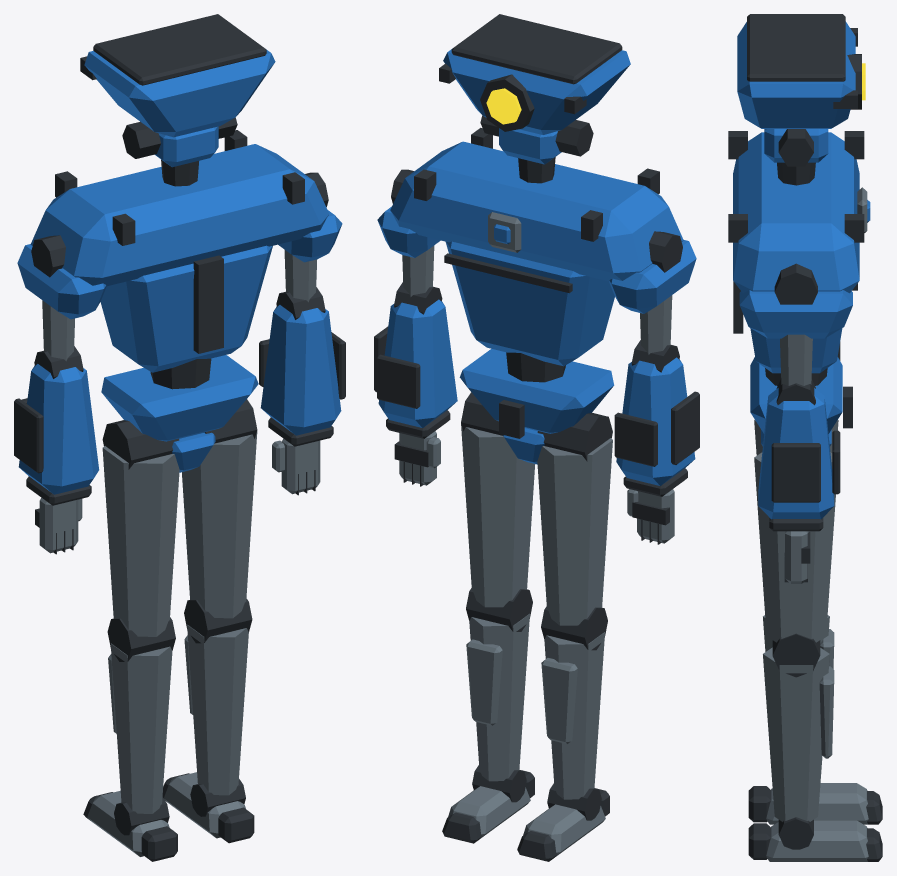
File: Robot_Blue.fbx
3 renders of one model, left to right at view 1: azimuth 30°, elevation 25°; view 2: azimuth 150°, elevation 25°; view 3: azimuth 270°, elevation 25°, orthographic. The views are drawn at different scales.
Visible parts, largest first — view 1: Chest, Head, Thigh.L, Thigh.R, Forearm.R, Forearm.L, Shin.L, Shin.R, Hips, Foot.L, Foot.R, UpperArm.L (+3 smaller); view 2: Chest, Head, Thigh.L, Thigh.R, Forearm.L, Forearm.R, Shin.L, Shin.R, Hips, Foot.L, Foot.R, UpperArm.L (+3 smaller); view 3: Chest, Head, Shin.R, Forearm.R, Thigh.R, Foot.R, Foot.L, UpperArm.R, Hips, Hand.R, Shin.L.
Boxes of the visible parts, x1,y1,x2,y2 form: Chest: (17,130,342,389); Head: (80,14,275,186); Thigh.L: (102,420,179,636); Thigh.R: (182,399,257,618); Forearm.R: (259,287,345,446); Forearm.L: (14,346,99,505); Shin.L: (107,617,175,813); Shin.R: (184,598,252,795); Hips: (101,355,258,472); Foot.L: (83,790,177,861); Foot.R: (162,772,254,843); UpperArm.L: (31,235,74,361); Chest: (377,127,696,382); Head: (439,14,630,183); Thigh.L: (537,413,612,625); Thigh.R: (461,392,535,607); Forearm.L: (614,340,699,496); Forearm.R: (374,282,457,438); Shin.L: (541,606,607,799); Shin.R: (466,588,532,781); Hips: (459,348,614,464); Foot.L: (517,783,609,861); Foot.R: (442,765,534,843); UpperArm.L: (640,231,682,354); Chest: (728,131,870,385); Head: (737,14,865,185); Shin.R: (763,633,834,821); Forearm.R: (758,378,840,531); Thigh.R: (754,452,835,642); Foot.R: (748,817,882,861); Foot.L: (748,783,882,824); UpperArm.R: (774,263,817,385); Hips: (750,357,852,446); Hand.R: (784,531,810,583); Shin.L: (763,615,834,668).
Bounding box in the file's own units: 0.728 × 0.313 × 1.77.
